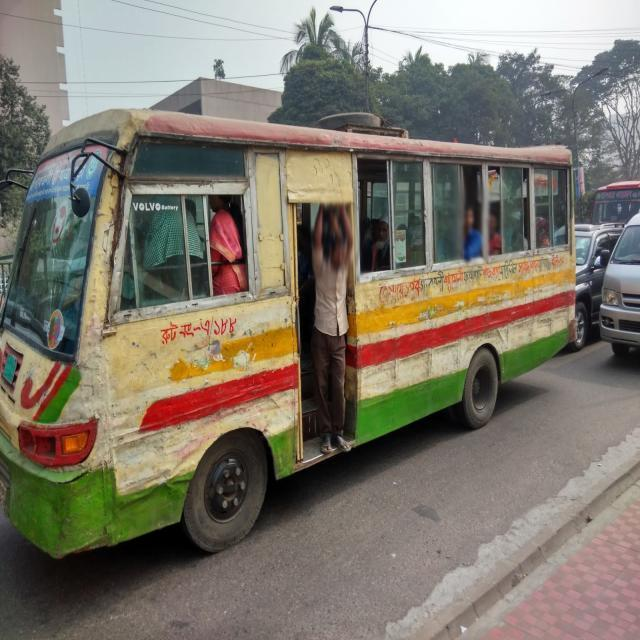bus: (0, 95, 621, 582)
